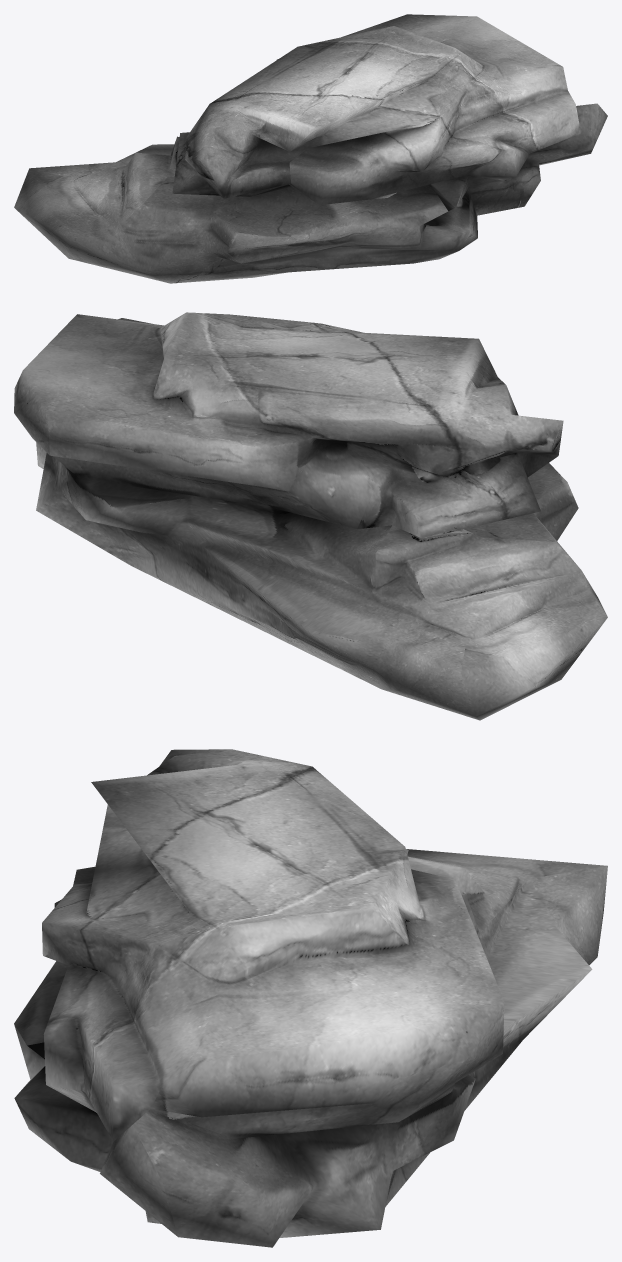
The model's file is ROCK_8.FBX.
The picture shows the model from 3 angles, top to bottom: view 1: azimuth 30°, elevation 25°; view 2: azimuth 150°, elevation 25°; view 3: azimuth 270°, elevation 25°; orthographic projection. The views are drawn at different scales.
Parts seen in each view (by area): view 1: 08; view 2: 08; view 3: 08.
Part boxes in pixels (left/top/right/bottom): 08: left=14, top=14, right=607, bottom=283; 08: left=14, top=312, right=607, bottom=720; 08: left=14, top=749, right=607, bottom=1247.
Size of the model in its own units: 1195 by 407 by 731.
Materials: 1 (1 with a texture image).
